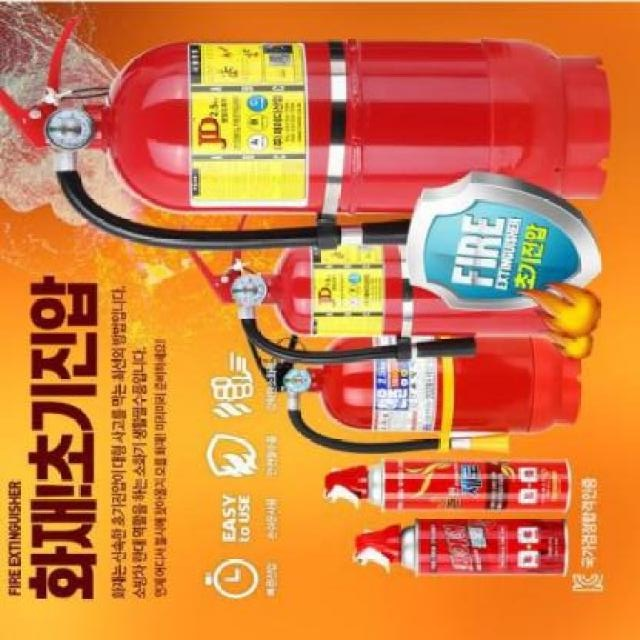fire extinguisher: (0, 14, 611, 251), (186, 245, 551, 364), (246, 335, 582, 454)
